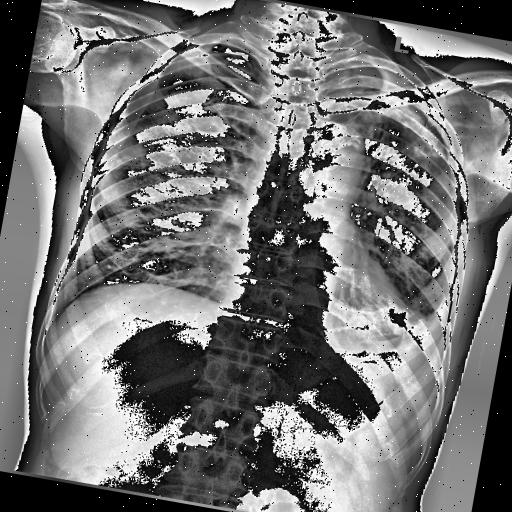0- Aortic enlargement: (298, 117, 374, 181)
10- Pleural effusion: (361, 277, 459, 377), (382, 271, 454, 376), (396, 281, 458, 368)
11- Pleural thickening: (314, 56, 468, 153), (382, 271, 454, 376)
13- Pulmonary fibrosis: (324, 86, 454, 196), (344, 80, 448, 203), (342, 90, 450, 200), (100, 138, 160, 176), (110, 140, 158, 173)
4- Consolidation: (342, 90, 450, 200), (370, 95, 450, 156)
6- Infiltration: (324, 86, 454, 196), (100, 134, 159, 228)
